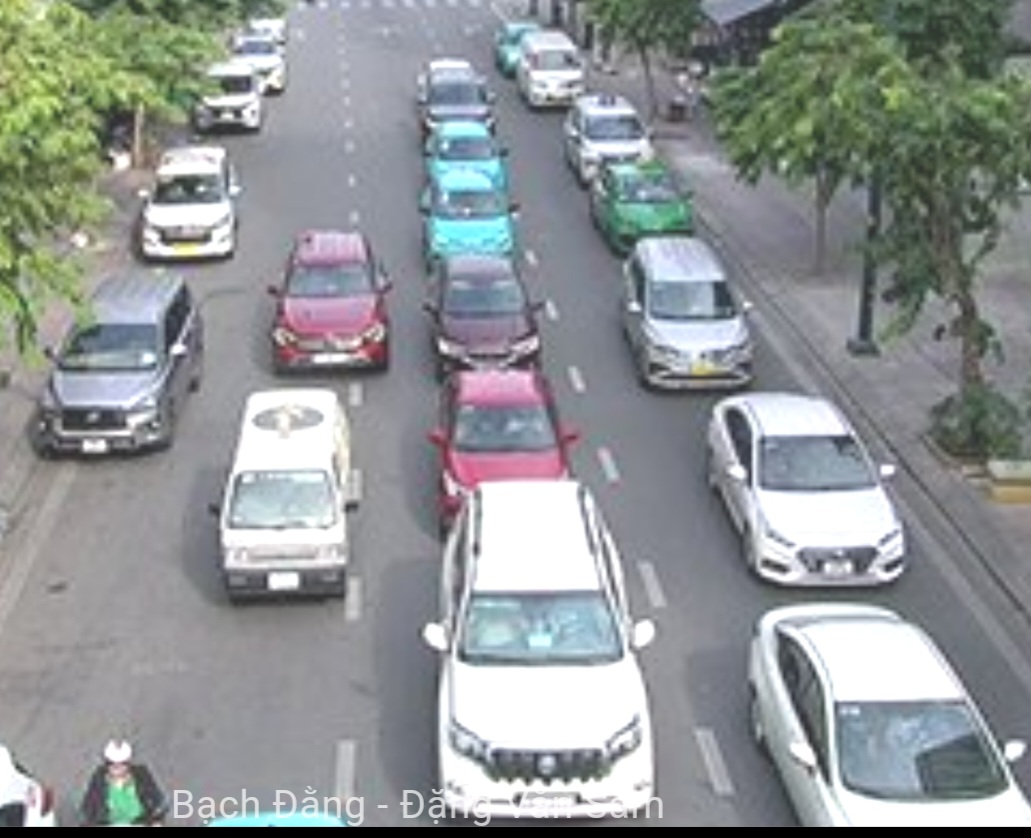car: (438, 488, 660, 827), (743, 601, 1028, 836), (708, 394, 910, 587), (217, 384, 361, 608), (32, 273, 208, 454), (627, 242, 760, 390), (432, 372, 576, 498), (272, 234, 393, 375), (428, 260, 541, 372), (145, 141, 241, 261), (424, 172, 519, 261), (597, 167, 697, 239), (565, 94, 657, 170), (519, 34, 585, 110), (190, 63, 264, 130), (416, 74, 502, 129), (420, 125, 505, 176)
